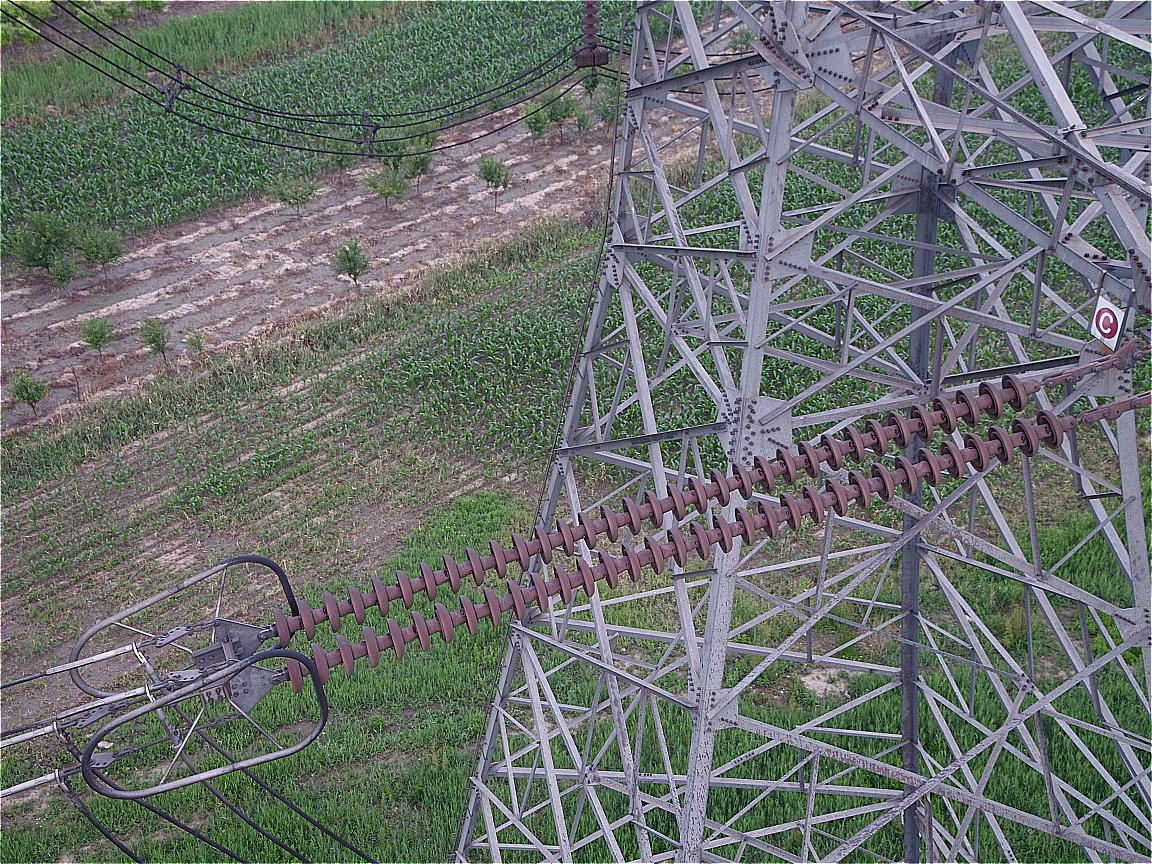insultor1: (272, 374, 1062, 692)
